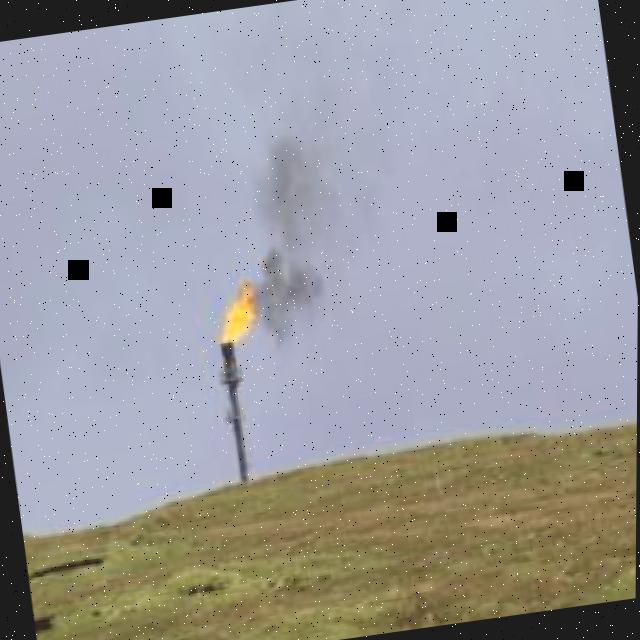fire: (221, 286, 256, 344)
smoke: (255, 136, 339, 269), (253, 249, 325, 340)
